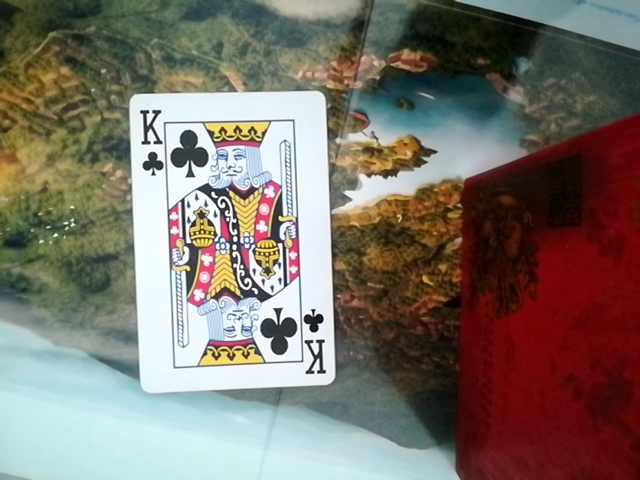mh k: (125, 93, 337, 395)
